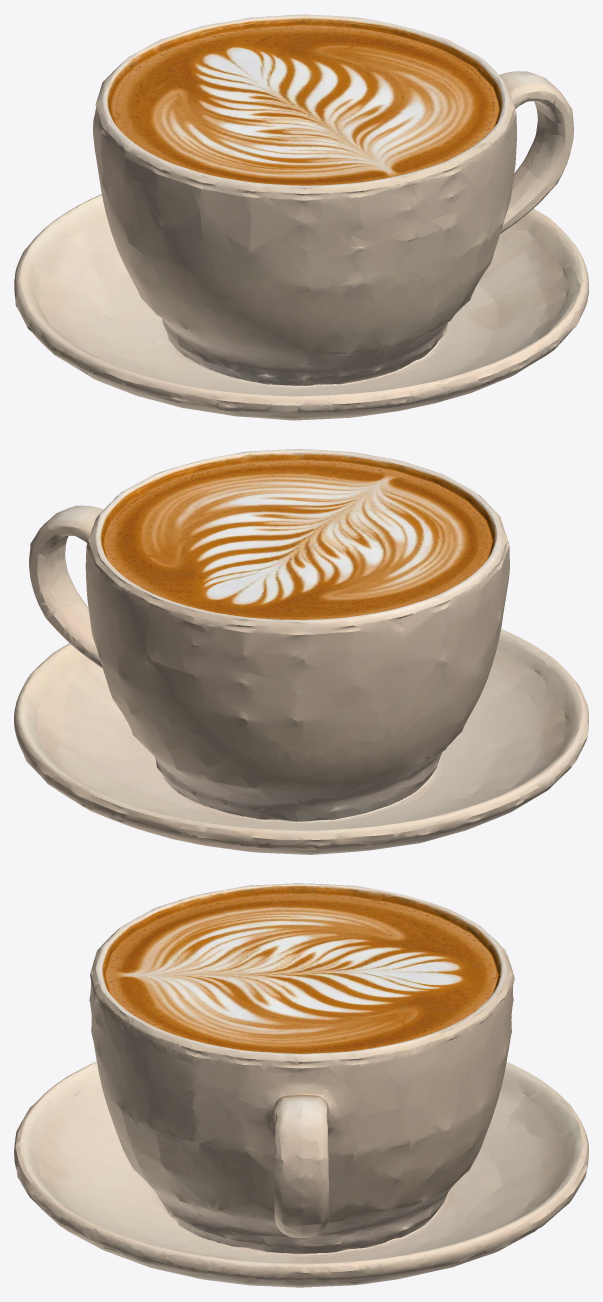
The model's file is latte.glb.
3 renders of one model, top to bottom at view 1: azimuth 30°, elevation 25°; view 2: azimuth 150°, elevation 25°; view 3: azimuth 270°, elevation 25°, orthographic.
Parts seen in each view (by area): view 1: Mesh_0; view 2: Mesh_0; view 3: Mesh_0.
Boxes of the visible parts, x1,y1,x2,y2 form: Mesh_0: [14, 14, 588, 420]; Mesh_0: [14, 449, 588, 854]; Mesh_0: [14, 883, 588, 1287].
Size of the model in its own units: 1.9 by 0.8948 by 1.82.
Materials: 1 (1 with a texture image).
